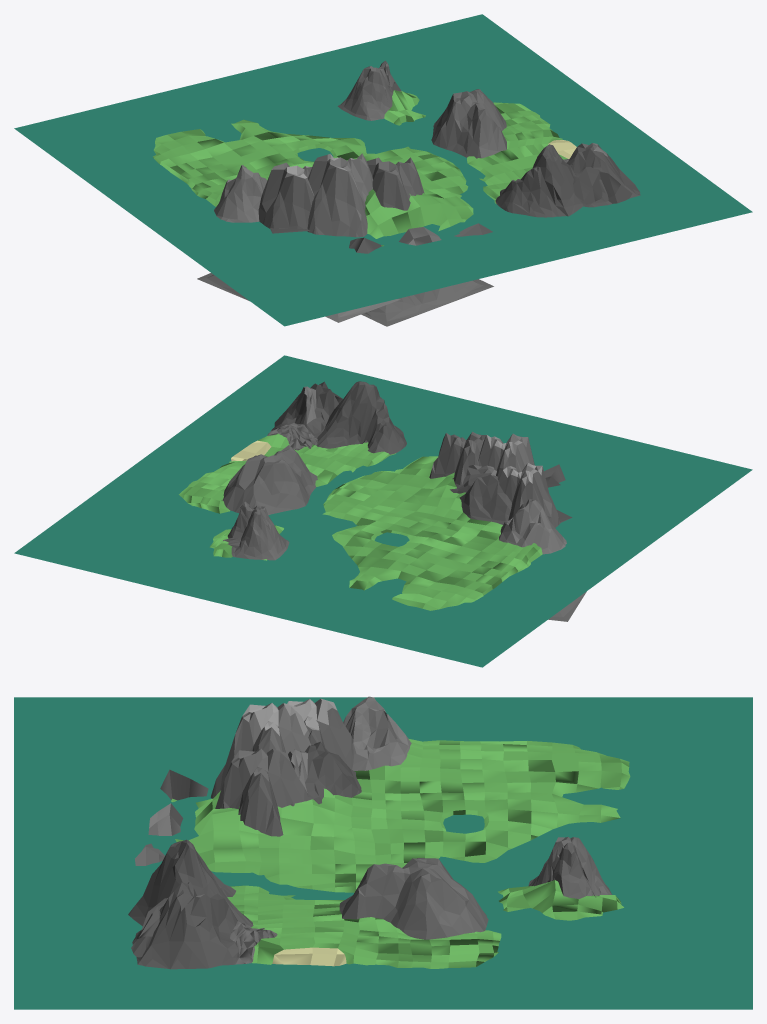
The model's file is Landschaft 2.fbx.
The picture shows the model from 3 angles, top to bottom: view 1: azimuth 30°, elevation 25°; view 2: azimuth 150°, elevation 25°; view 3: azimuth 270°, elevation 25°; orthographic projection. The views are drawn at different scales.
Visible parts, largest first — view 1: Wasser_keine_Wellen, Land, Landschaft_5, Landschaft_6, Landschaft, Landschaft_2, Landschaft_4, Landschaft_3, Landschaft_7, Landschaft_9; view 2: Wasser_keine_Wellen, Land, Landschaft, Landschaft_2, Landschaft_8, Landschaft_3, Landschaft_4, Landschaft_7, Landschaft_9, Landschaft_6, Landschaft_5, Landschaft_10; view 3: Wasser_keine_Wellen, Land, Landschaft, Landschaft_9, Landschaft_6, Landschaft_2, Landschaft_5, Landschaft_7, Landschaft_3, Landschaft_8, Landschaft_4, Landschaft_10 (+1 smaller).
Part boxes in pixels (x1,y1,x2,y2): Wasser_keine_Wellen: (14,14,752,326); Land: (153,90,632,253); Landschaft_5: (307,153,400,322); Landschaft_6: (361,157,493,326); Landschaft: (431,89,506,158); Landschaft_2: (495,144,582,217); Landschaft_4: (197,162,314,301); Landschaft_3: (337,60,401,120); Landschaft_7: (214,165,267,222); Landschaft_9: (567,143,640,207); Wasser_keine_Wellen: (14,355,752,667); Land: (179,392,565,610); Landschaft: (222,445,317,514); Landschaft_2: (316,381,406,454); Landschaft_8: (450,464,572,524); Landschaft_3: (223,501,289,560); Landschaft_4: (497,463,586,621); Landschaft_7: (499,499,566,554); Landschaft_9: (271,381,338,437); Landschaft_6: (429,431,486,485); Landschaft_5: (478,433,534,476); Landschaft_10: (267,423,317,450); Wasser_keine_Wellen: (14,697,752,1009); Land: (131,739,630,968); Landschaft: (339,858,488,939); Landschaft_9: (132,881,238,969); Landschaft_6: (215,748,307,836); Landschaft_2: (128,839,253,926); Landschaft_5: (210,703,310,798); Landschaft_7: (343,696,411,770); Landschaft_3: (528,837,611,898); Landschaft_8: (288,741,361,806); Landschaft_4: (287,698,353,769); Landschaft_10: (230,921,277,964).
Size of the model in its own units: 7000 by 1944 by 7000.
